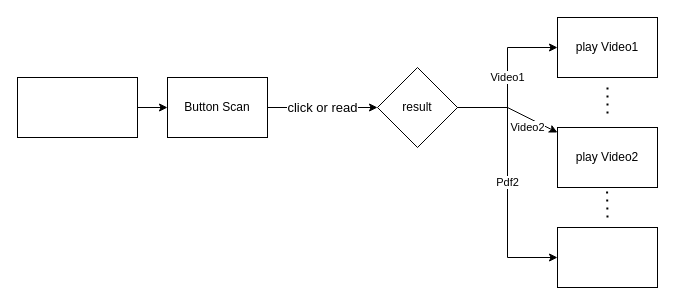
Image size: 675x305. Some labels were removed from this diagram. Here are the shapes that lost their labels. From the top down, the box of each, then its label:
(16, 76, 138, 138): open app
(556, 226, 658, 288): open Pdf2
